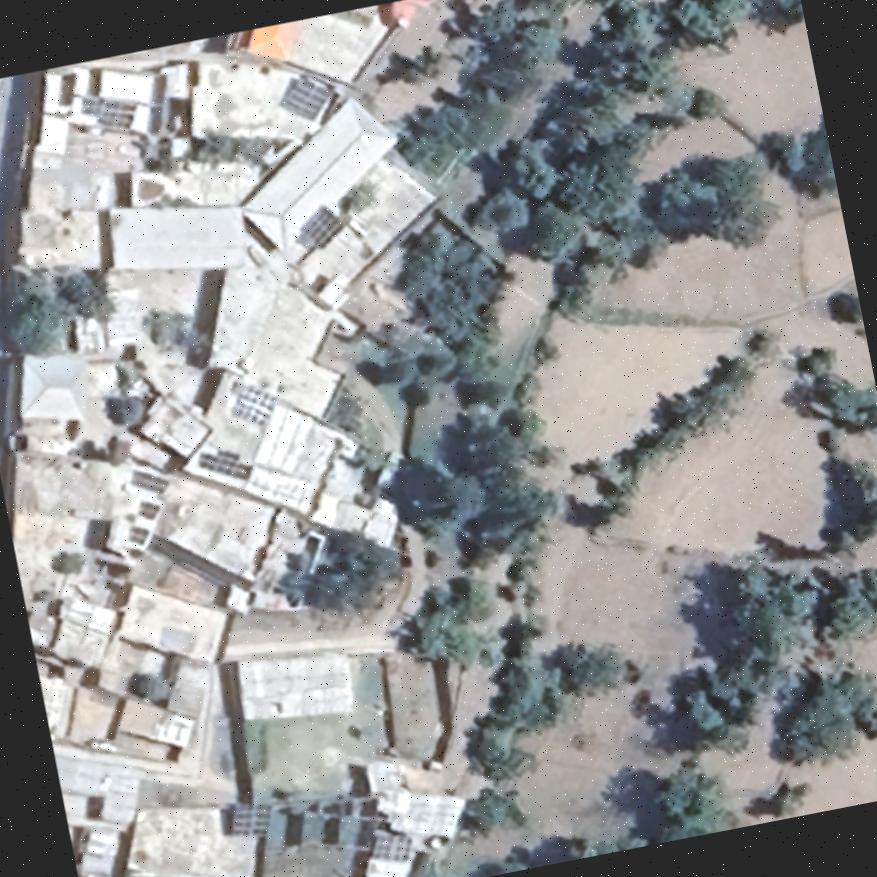Solarpanel: (270, 66, 338, 127), (193, 438, 257, 488), (296, 200, 347, 251), (223, 386, 275, 435), (226, 796, 274, 840)
